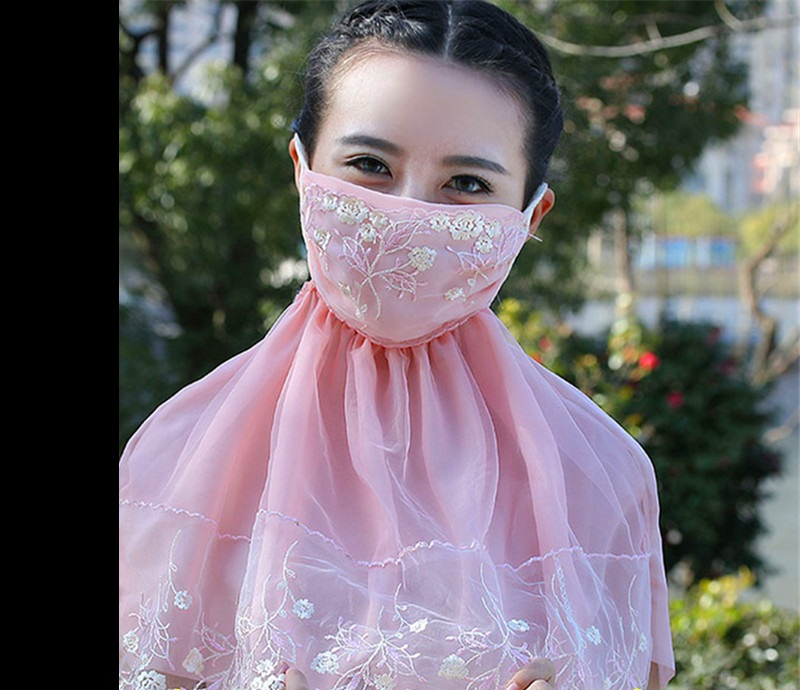face_mask: (301, 58, 527, 335)
